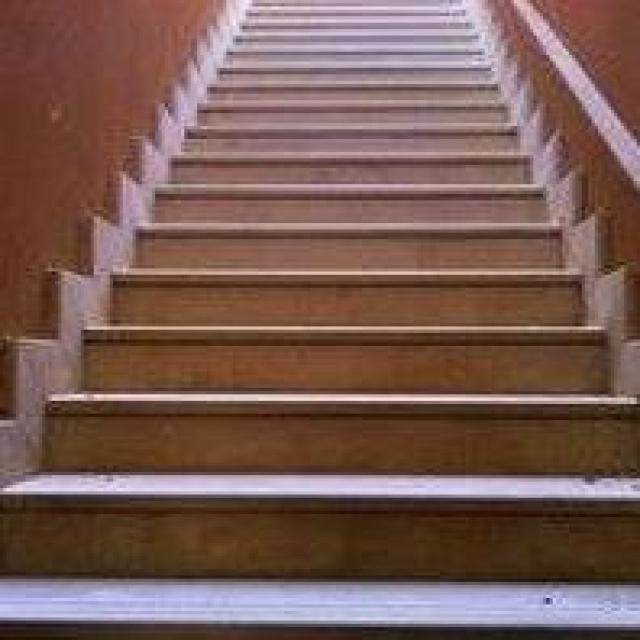Stairs: (55, 32, 612, 589)
